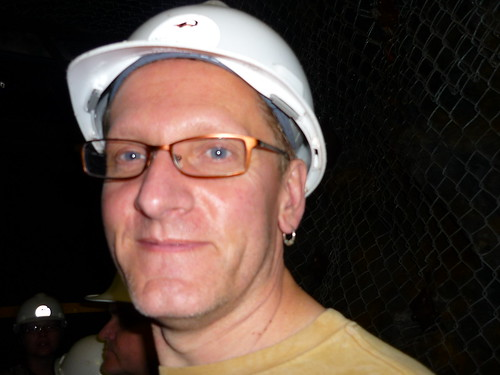person hardhat: (42, 2, 423, 375)
